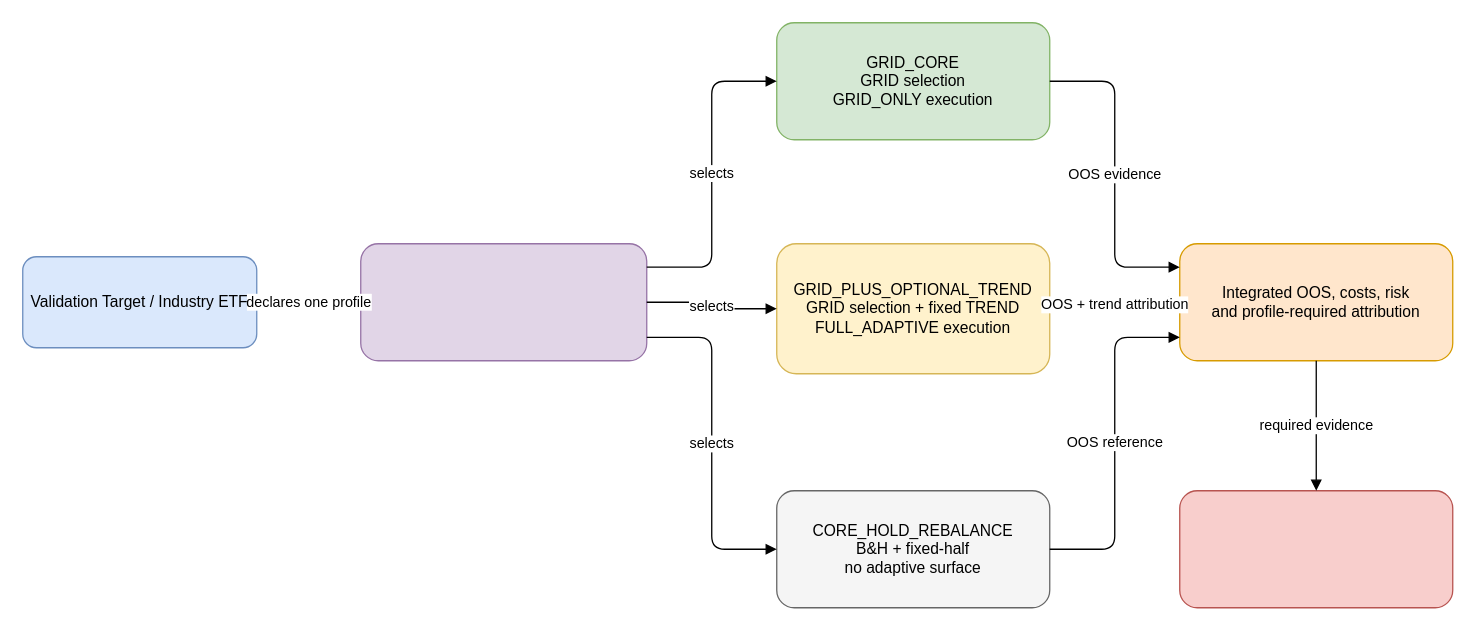
Some shapes in this 1476 by 631 pixel diagram are drawn without their labels. Here are the shapes that lost their labels. From the top down, the centre of each, then its label:
At pixel 503 301: "Declared StrategyProfileSpec immutable id + version + hash".
At pixel 1315 548: "Fail-closed decision shadow evidence + human review default: do_not_trade".
